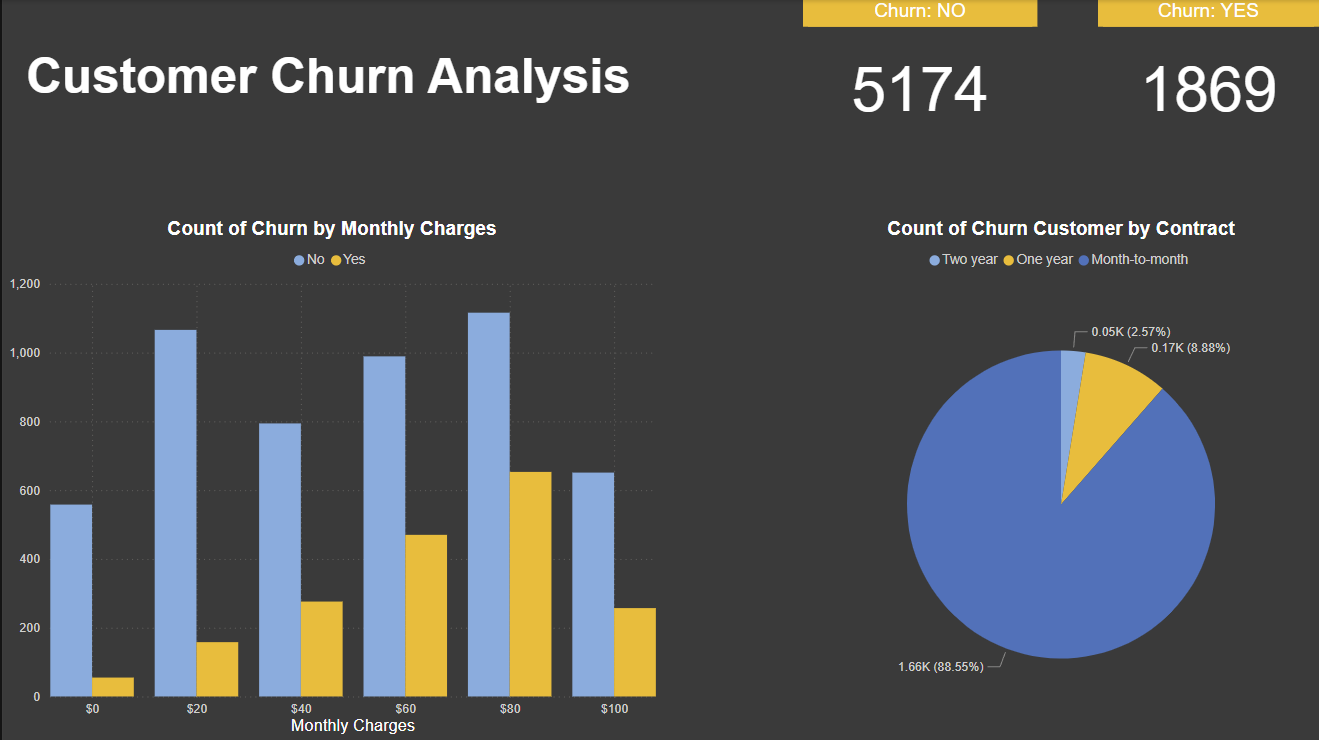

The page's visual inventory and layout, read from the dashboard file:
{"tool":"powerbi","page":{"name":"Churn 1","canvas":[1280,720],"ordinal":0},"visuals":[{"type":"card","title":"Churn: YES","fields":{"Values":["CountNonNull(data.Churn)"]},"box":[1065,0,215,143],"z":0},{"type":"card","title":"Churn: NO","fields":{"Values":["CountNonNull(data.Churn)"]},"box":[778.1,0,227.6,143],"z":1000},{"type":"clusteredColumnChart","title":"Count of Churn by Monthly Charges ","fields":{"Category":["data.MonthlyCharges (bins)"],"Y":["CountNonNull(data.Churn)"],"Series":["data.Churn"]},"box":[0,212,640,507.7],"z":2000},{"type":"textbox","box":[0,41.8,633.2,69.1],"z":3000},{"type":"pieChart","title":"Count of Churn Customer by Contract","fields":{"Category":["data.Contract"],"Y":["CountNonNull(data.Churn)"]},"box":[778.1,212,501.9,507.7],"z":4000}]}

Visuals, with their boxes in screenshot pixels (x1, y1, x2, y2), scaled from the page's 1280x720 canvas onto the 1319x740 screenshot:
"Churn: YES" card: {"x1": 1097, "y1": 0, "x2": 1318, "y2": 147}
"Churn: NO" card: {"x1": 802, "y1": 0, "x2": 1036, "y2": 147}
"Count of Churn by Monthly Charges " clusteredColumnChart: {"x1": 0, "y1": 218, "x2": 660, "y2": 739}
textbox: {"x1": 0, "y1": 43, "x2": 652, "y2": 114}
"Count of Churn Customer by Contract" pieChart: {"x1": 802, "y1": 218, "x2": 1318, "y2": 739}
